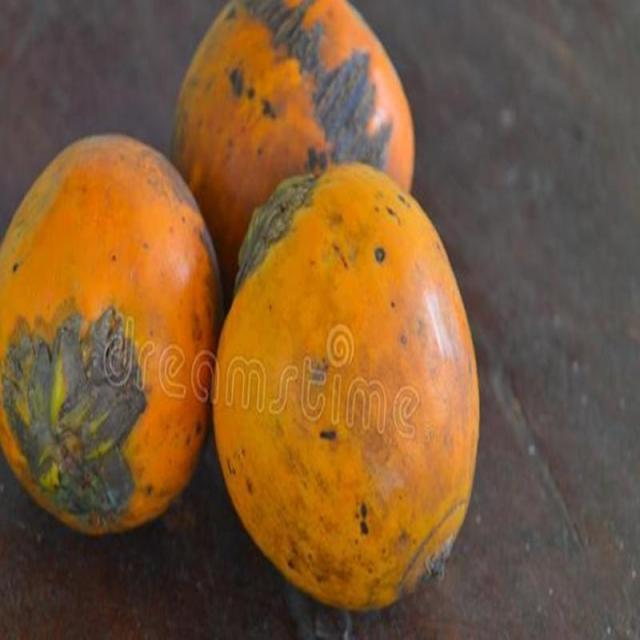good: (211, 164, 480, 615), (0, 134, 229, 540), (172, 0, 415, 235)
